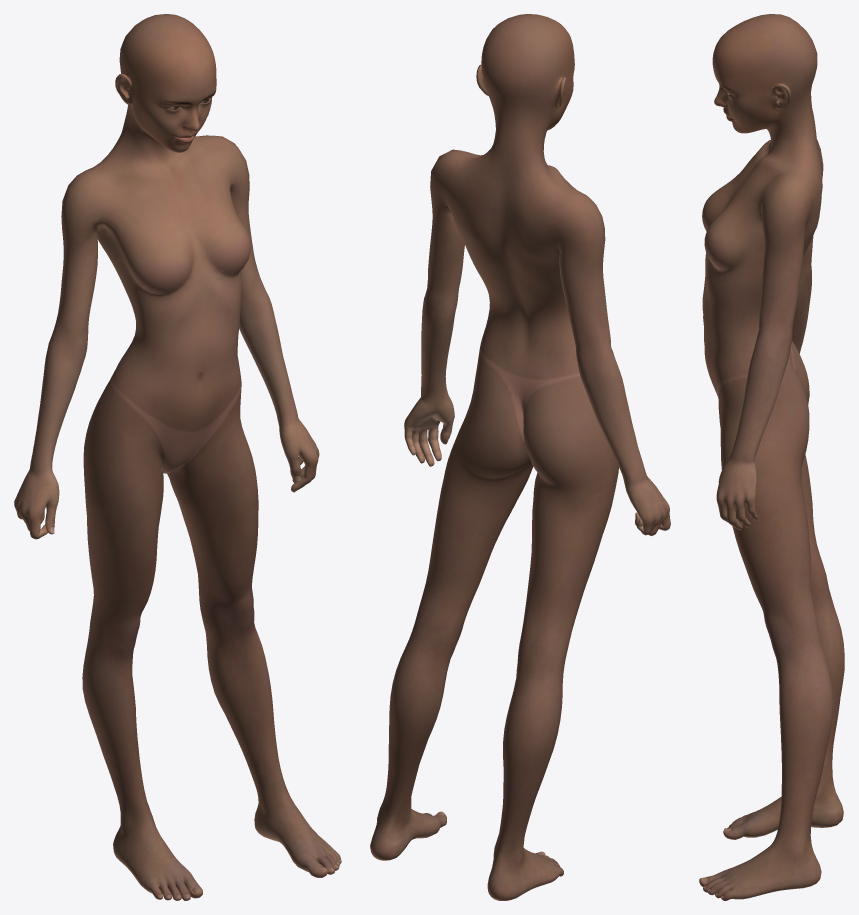
The picture shows the model from 3 angles, left to right: view 1: azimuth 30°, elevation 25°; view 2: azimuth 150°, elevation 25°; view 3: azimuth 270°, elevation 25°; orthographic projection. The views are drawn at different scales.
Visible parts, largest first — view 1: mesh_character_xs.001; view 2: mesh_character_xs.001; view 3: mesh_character_xs.001.
Boxes of the visible parts, <box> form: mesh_character_xs.001: <box>14,14,341,900</box>; mesh_character_xs.001: <box>370,14,670,900</box>; mesh_character_xs.001: <box>699,14,844,900</box>.
Bounding box in the file's own units: 0.6284 × 1.77 × 0.2855.
Materials: 1 (1 with a texture image).
